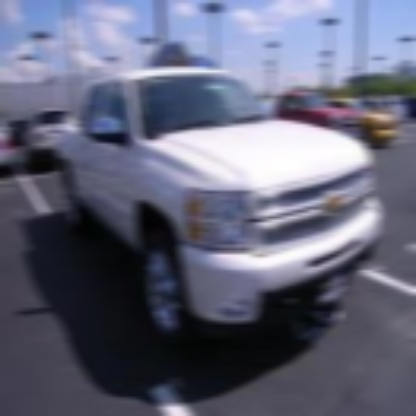Vehicle: (56, 68, 382, 348)
